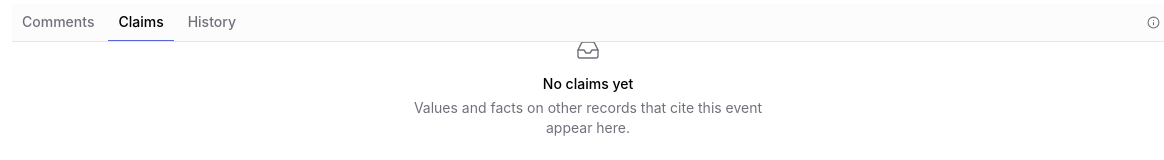
MemoryTabs › explains the current tab in plain words from its info button
Hover over the button named "About Claims".
mouse_move(1154, 22)  # box x1=1147 y1=16 x2=1160 y2=29
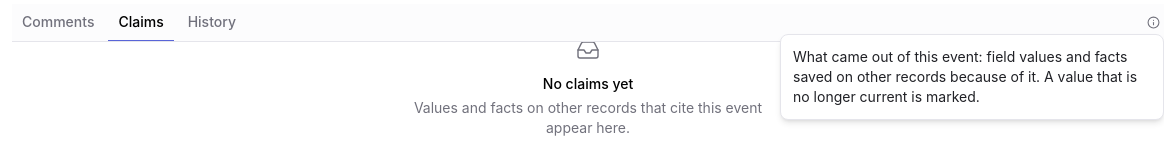
Expected: the tooltip shows "What came out of this event", x1=793 y1=48 x2=1137 y2=105
